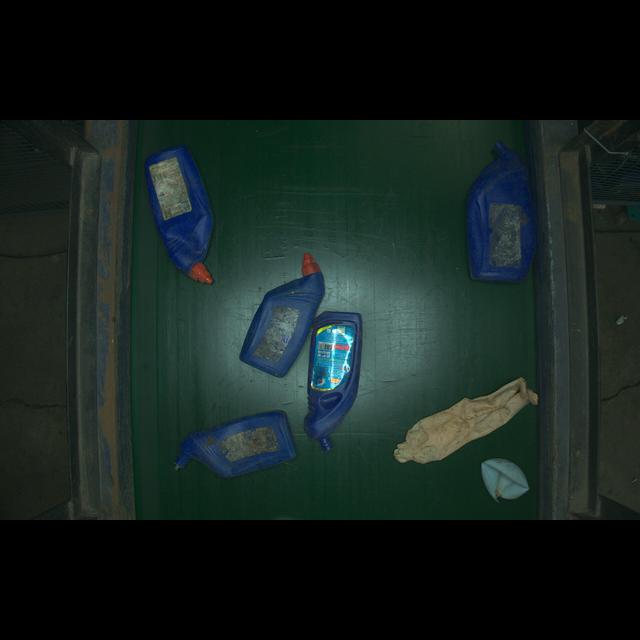mix HD: (384, 380, 552, 472), (132, 146, 239, 288), (457, 137, 541, 288), (234, 238, 325, 374), (163, 404, 299, 488), (312, 312, 379, 457), (476, 448, 536, 512)
